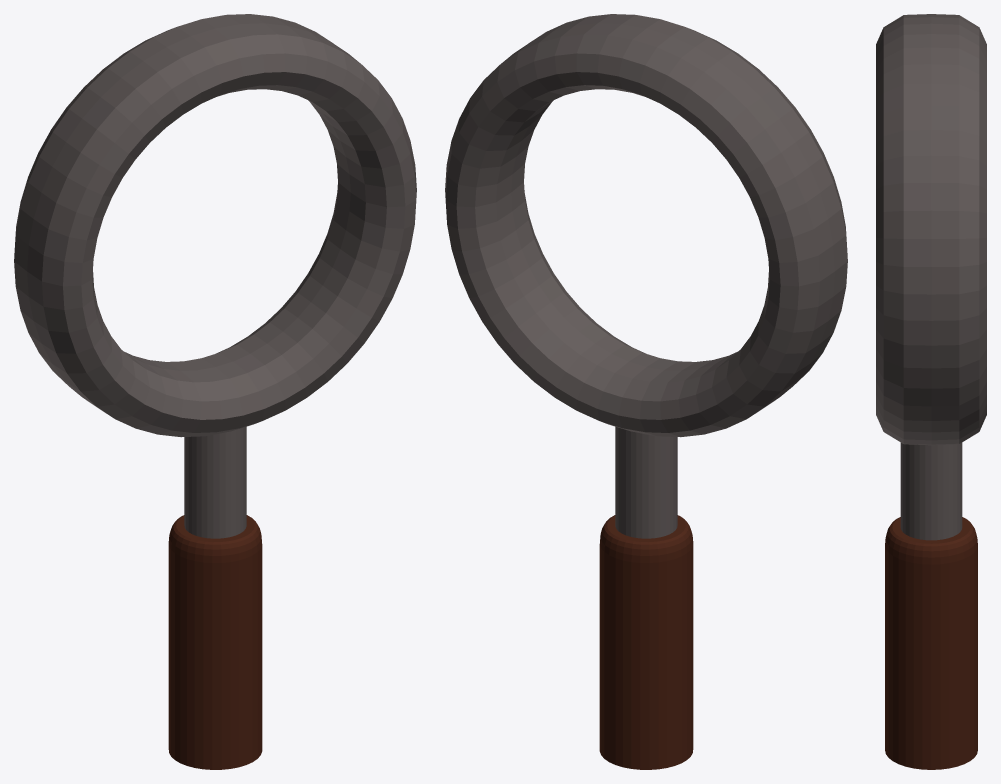
The model's file is Magnifyng glass.fbx.
3 renders of one model, left to right at view 1: azimuth 30°, elevation 25°; view 2: azimuth 150°, elevation 25°; view 3: azimuth 270°, elevation 25°, orthographic.
Parts seen in each view (by area): view 1: Magnifying glass; view 2: Magnifying glass; view 3: Magnifying glass.
Boxes of the visible parts, x1=… form: Magnifying glass: x1=14, y1=14, x2=416, y2=769; Magnifying glass: x1=445, y1=14, x2=847, y2=769; Magnifying glass: x1=876, y1=14, x2=986, y2=769.
Size of the model in its own units: 229 by 420 by 58.77.
